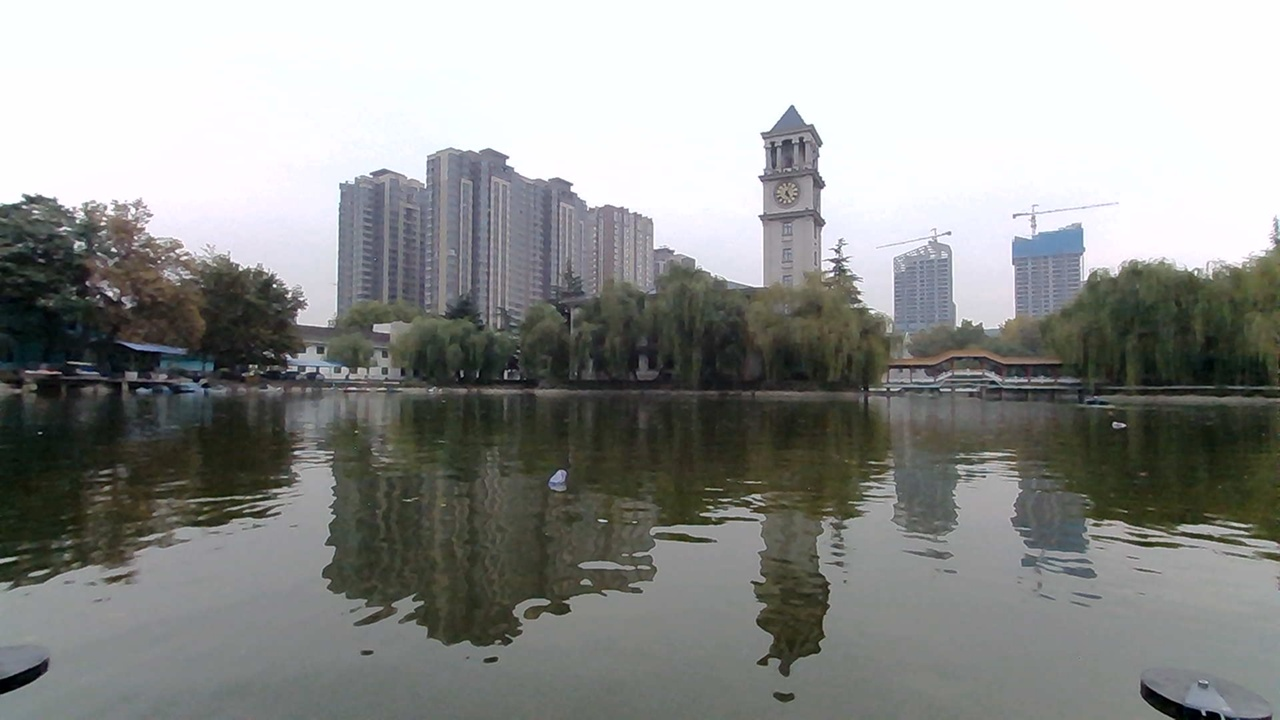bottle: (518, 449, 596, 496), (1093, 407, 1133, 434)
